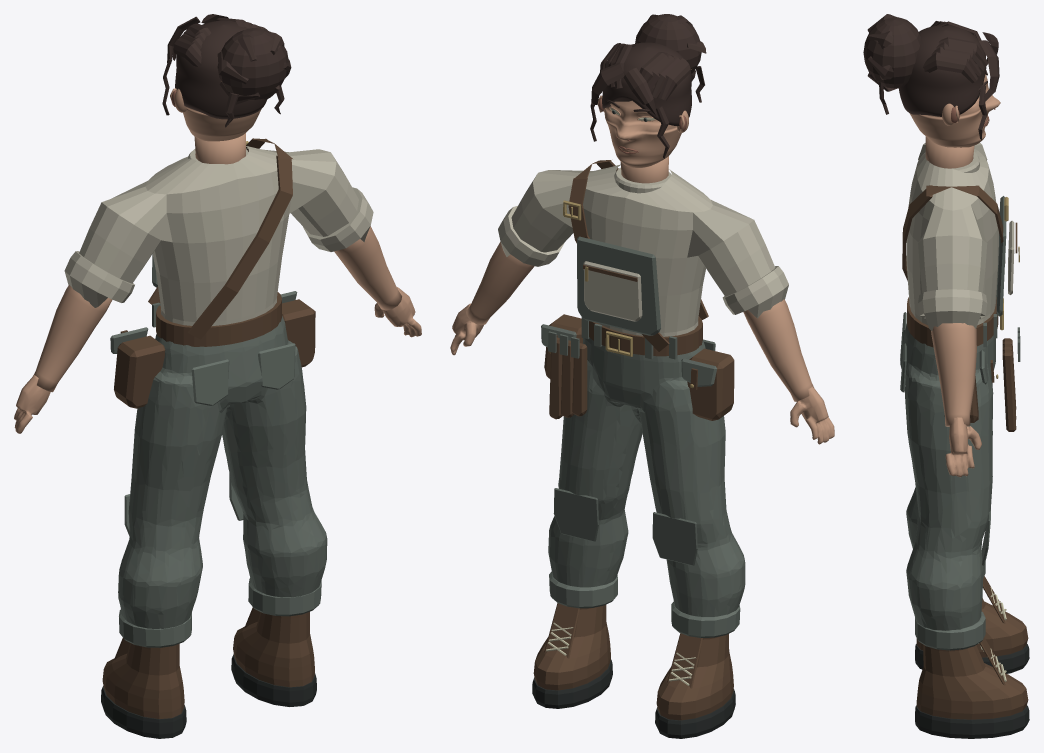
File: protagonist.glb
3 views of the same model, side by side, from view 1: azimuth 30°, elevation 25°; view 2: azimuth 150°, elevation 25°; view 3: azimuth 270°, elevation 25° (orthographic). The views are drawn at different scales.
Visible parts, largest first — view 1: Trousers | continuous seat, crotch and legs, Shirt | continuous shoulder and sleeve topology, Hair | swept cap, bun and loose locks, Boot upper.L, Boot upper.R, Forearm.L, Harness | back return, Hip pouch.L, Belt | oval waist, Forearm.R, Sleeve roll.L, Boot sole.L (+11 smaller); view 2: Trousers | continuous seat, crotch and legs, Shirt | continuous shoulder and sleeve topology, Hair | swept cap, bun and loose locks, Boot upper.L, Boot upper.R, Canvas chest bib, Forearm.L, Head | editable facial surface, Chest pocket, Forearm.R, Hip pouch.L, Shaped knee reinforcement.L (+19 smaller); view 3: Trousers | continuous seat, crotch and legs, Shirt | continuous shoulder and sleeve topology, Hair | swept cap, bun and loose locks, Boot upper.R, Forearm.R, Boot sole.R, Sleeve roll.R, Head | editable facial surface, Boot upper.L, Trouser turnup.R, Hand | relaxed fingers.R, Neck (+9 smaller).
Part boxes in pixels (x1=…): Trousers | continuous seat, crotch and legs: x1=118, y1=316, x2=327, y2=628; Shirt | continuous shoulder and sleeve topology: x1=79, y1=146, x2=358, y2=325; Hair | swept cap, bun and loose locks: x1=162, y1=14, x2=291, y2=127; Boot upper.L: x1=102, y1=643, x2=184, y2=718; Boot upper.R: x1=233, y1=612, x2=314, y2=687; Forearm.L: x1=33, y1=285, x2=112, y2=392; Harness | back return: x1=187, y1=155, x2=292, y2=339; Hip pouch.L: x1=114, y1=335, x2=165, y2=408; Belt | oval waist: x1=156, y1=292, x2=281, y2=346; Forearm.R: x1=334, y1=226, x2=401, y2=310; Sleeve roll.L: x1=64, y1=251, x2=134, y2=307; Boot sole.L: x1=101, y1=686, x2=186, y2=738; Trousers | continuous seat, crotch and legs: x1=548, y1=338, x2=745, y2=616; Shirt | continuous shoulder and sleeve topology: x1=511, y1=164, x2=775, y2=336; Hair | swept cap, bun and loose locks: x1=590, y1=14, x2=706, y2=158; Boot upper.L: x1=656, y1=634, x2=733, y2=720; Boot upper.R: x1=533, y1=605, x2=610, y2=690; Canvas chest bib: x1=577, y1=236, x2=660, y2=335; Forearm.L: x1=743, y1=299, x2=813, y2=401; Head | editable facial surface: x1=604, y1=100, x2=681, y2=167; Chest pocket: x1=583, y1=261, x2=642, y2=321; Forearm.R: x1=466, y1=242, x2=534, y2=325; Hip pouch.L: x1=687, y1=348, x2=734, y2=420; Shaped knee reinforcement.L: x1=652, y1=512, x2=697, y2=565; Trousers | continuous seat, crotch and legs: x1=900, y1=324, x2=995, y2=630; Shirt | continuous shoulder and sleeve topology: x1=906, y1=142, x2=998, y2=325; Hair | swept cap, bun and loose locks: x1=863, y1=14, x2=999, y2=139; Boot upper.R: x1=916, y1=644, x2=1028, y2=719; Forearm.R: x1=931, y1=323, x2=976, y2=426; Boot sole.R: x1=915, y1=705, x2=1029, y2=738; Sleeve roll.R: x1=918, y1=289, x2=987, y2=330; Head | editable facial surface: x1=909, y1=74, x2=1000, y2=147; Boot upper.L: x1=916, y1=598, x2=1028, y2=657; Trouser turnup.R: x1=915, y1=611, x2=985, y2=650; Hand | relaxed fingers.R: x1=945, y1=417, x2=981, y2=477; Neck: x1=925, y1=136, x2=974, y2=168.
Bounding box in the file's own units: 1.14 × 1.87 × 0.417.
